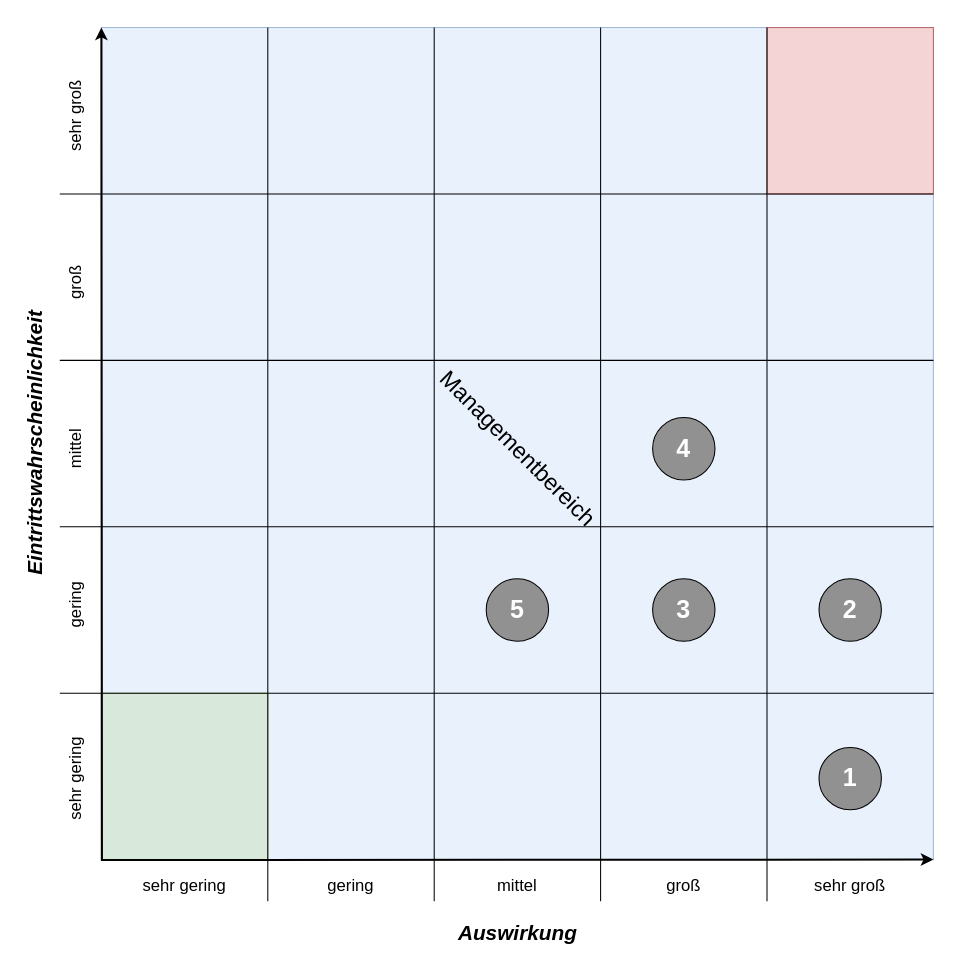
Some shapes in this 961 by 965 pixel diagram are drawn without their labels. The centre of each missing label's shape, as x and y in pixels:
"Eskaltions-bereich" goes at point (849, 110).
"Risikotoleranz-bereich" goes at point (184, 776).
